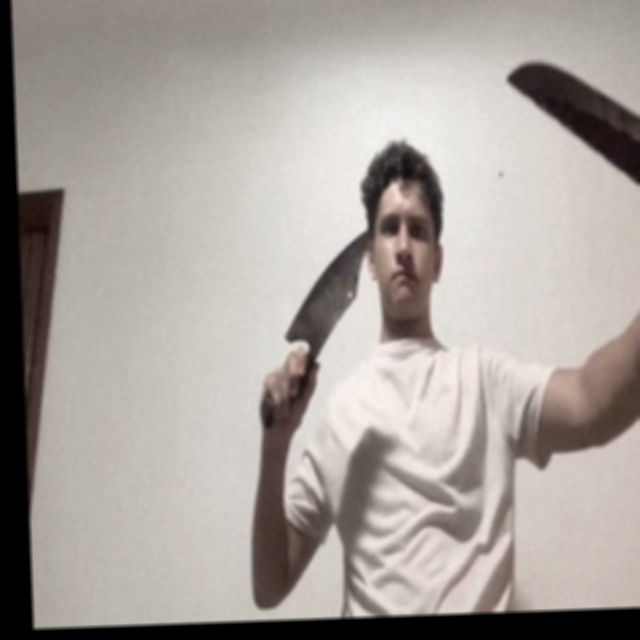Sharp-Object: (508, 56, 640, 187), (282, 230, 373, 342)
